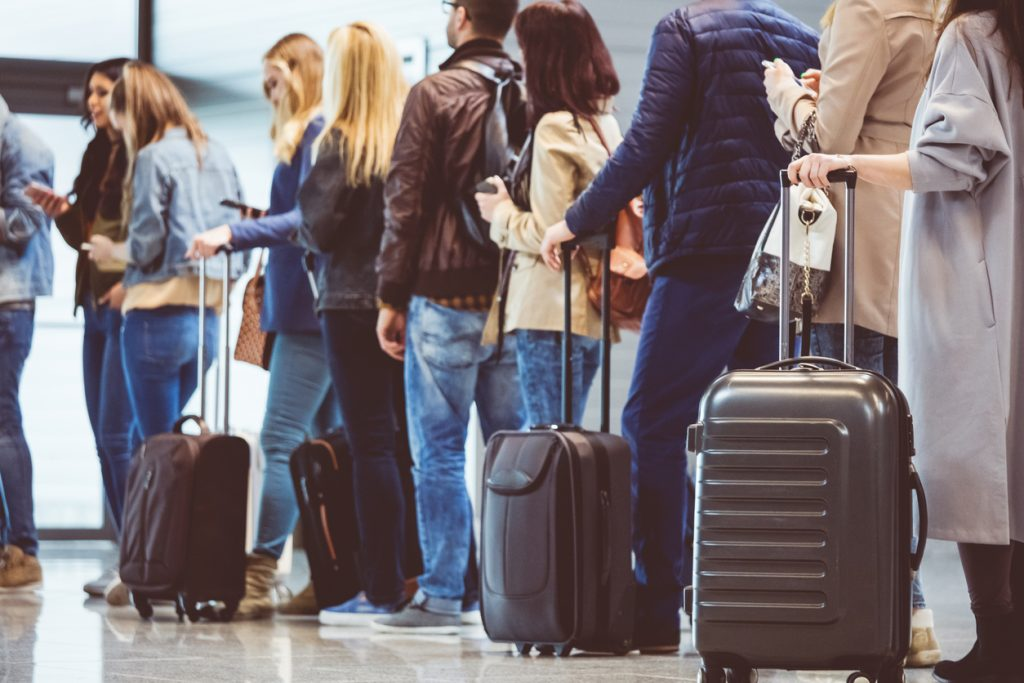bag: (734, 106, 856, 332)
luggage: (683, 166, 933, 683), (479, 234, 639, 659), (107, 240, 259, 631)
